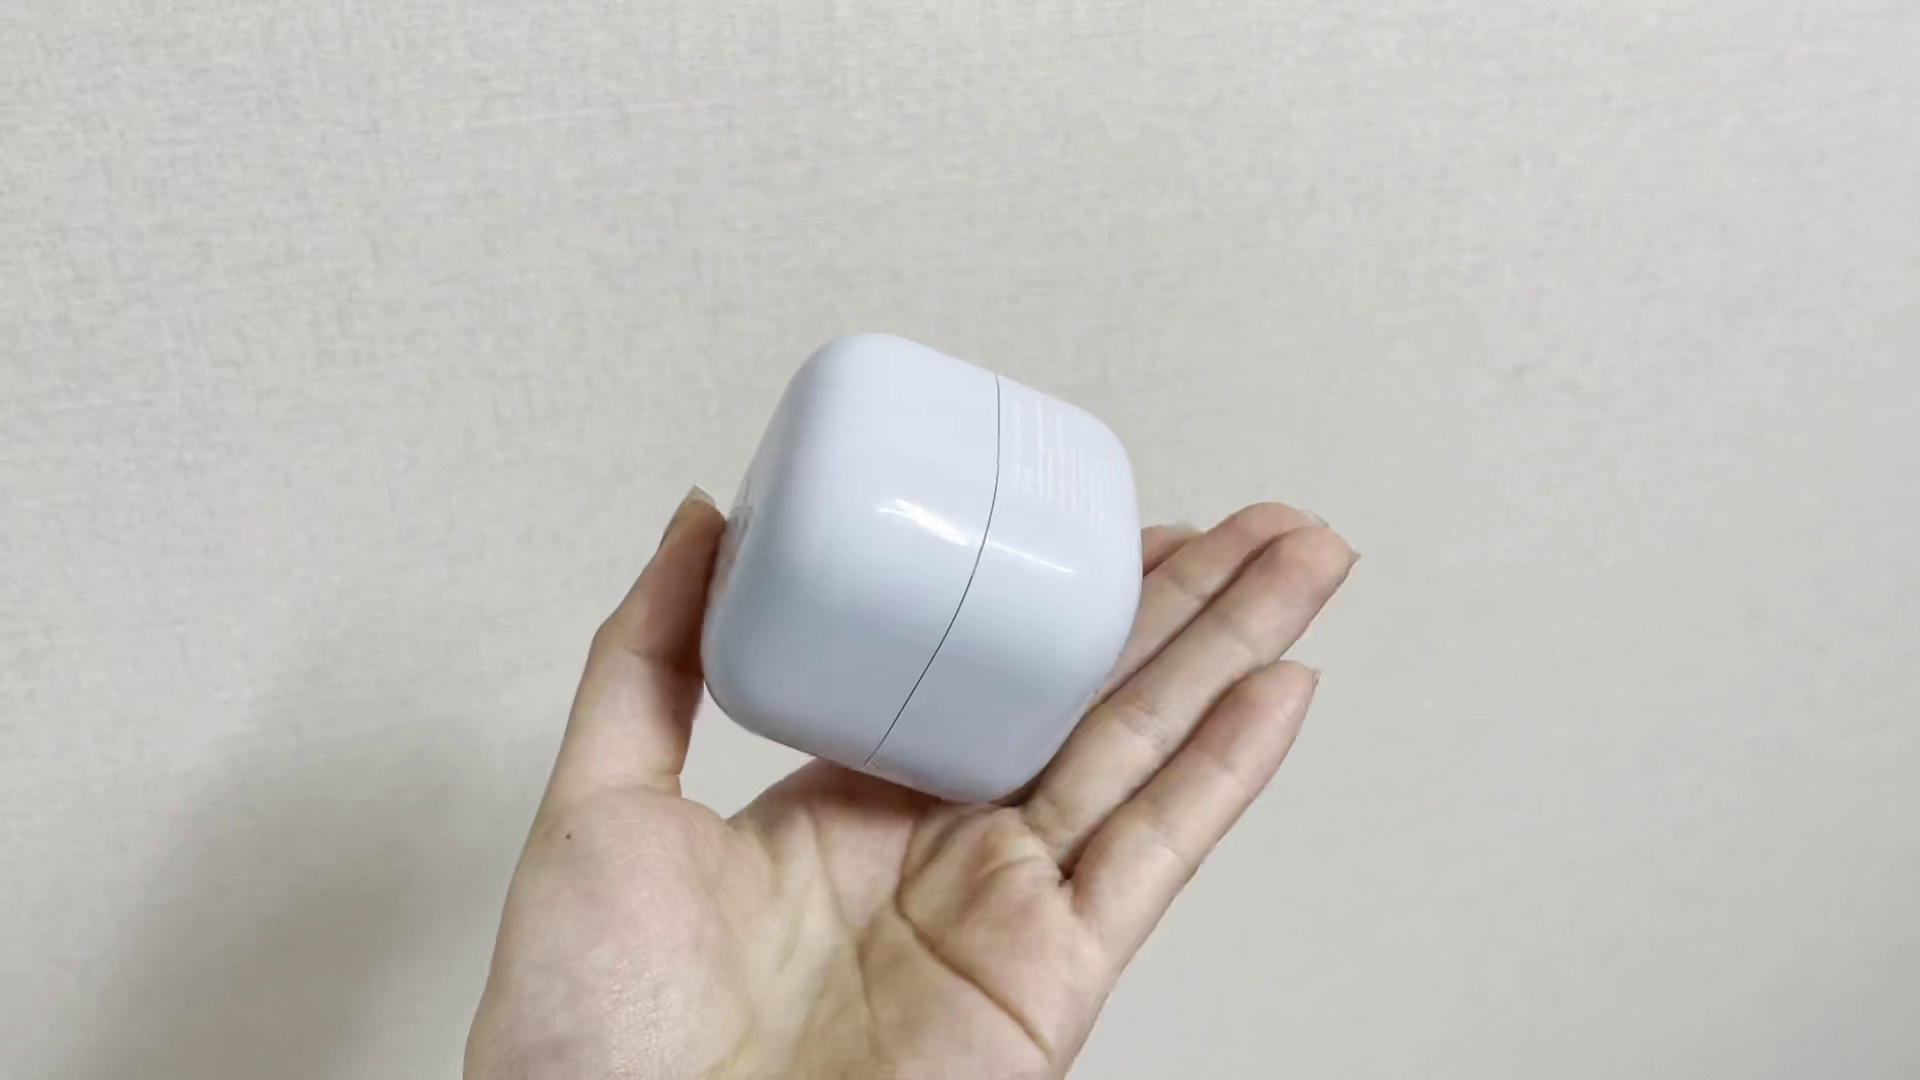cream: (694, 338, 1145, 800)
